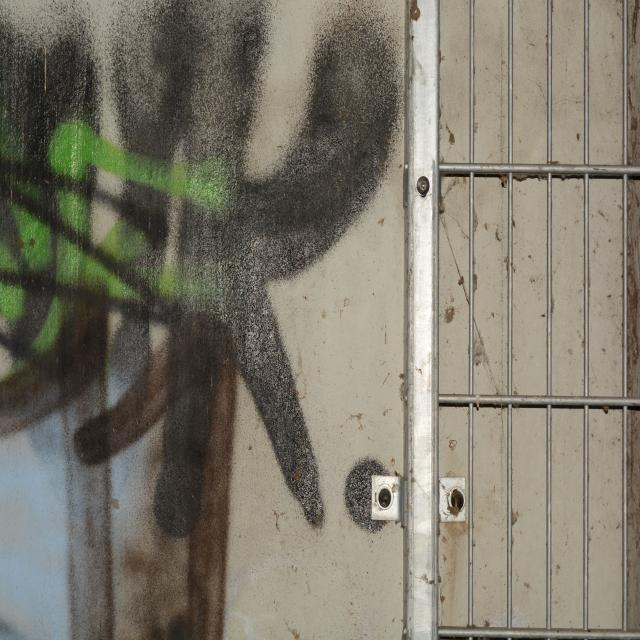corrosion: (448, 488, 464, 511), (378, 489, 391, 506)
